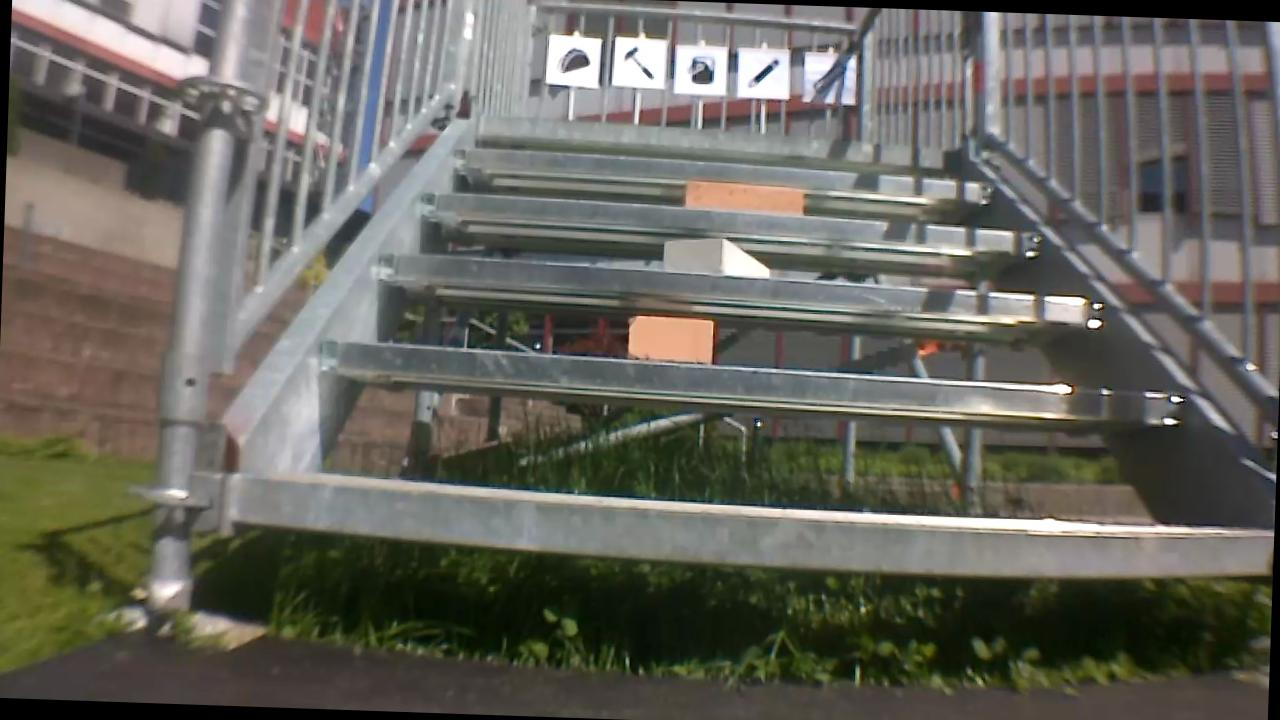brick: (660, 234, 771, 278), (619, 312, 717, 360), (673, 184, 806, 215)
edge: (211, 485, 1274, 580), (372, 247, 1119, 331), (325, 347, 1187, 418), (406, 194, 1047, 259), (454, 155, 1001, 201), (479, 122, 973, 161)
steps: (190, 109, 1280, 590)
